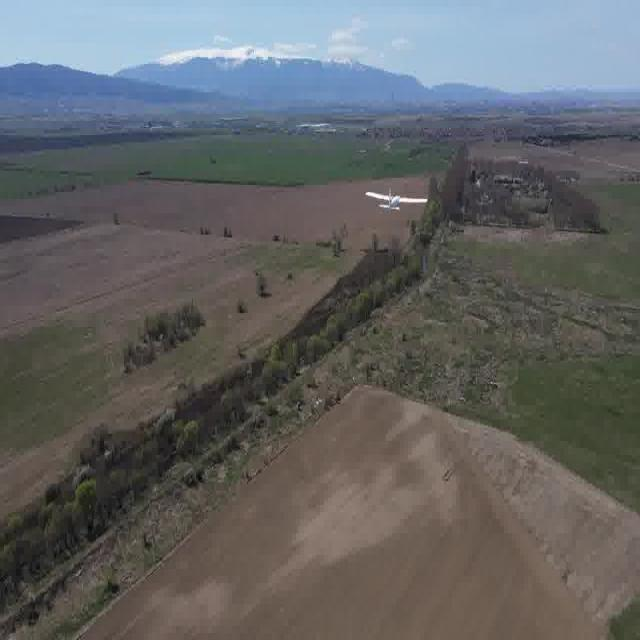iha: (394, 173, 400, 221)
